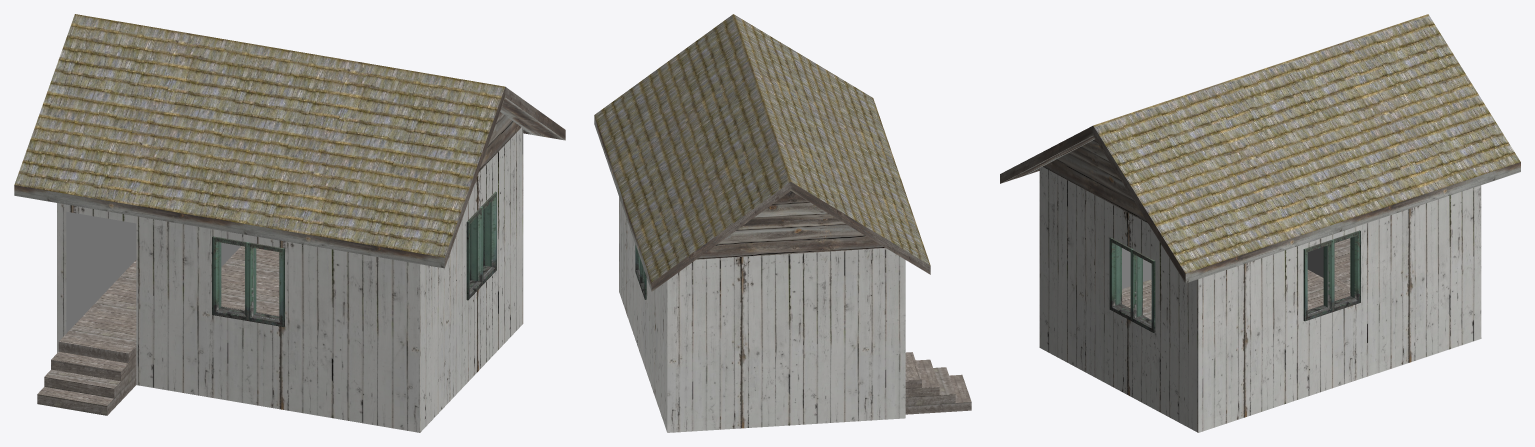
Rendered from cottage2.obj.
The picture shows the model from 3 angles, left to right: view 1: azimuth 30°, elevation 25°; view 2: azimuth 150°, elevation 25°; view 3: azimuth 270°, elevation 25°; orthographic projection. The views are drawn at different scales.
Parts seen in each view (by area): view 1: Cube.007_Roof, Cube.006_Wall_Ouside, Cube.010_Concrete, Cube.009_Wood, Cube.008_Wall_Inside, Cube.004; view 2: Cube.007_Roof, Cube.006_Wall_Ouside, Cube.009_Wood, Cube.010_Concrete; view 3: Cube.006_Wall_Ouside, Cube.007_Roof, Cube.009_Wood, Cube.004, Cube.010_Concrete, Cube.008_Wall_Inside.
Part boxes in pixels (x1,y1,x2,y2): Cube.007_Roof: (14,14,504,257); Cube.006_Wall_Ouside: (57,127,523,432); Cube.010_Concrete: (37,246,279,415); Cube.009_Wood: (14,87,565,268); Cube.008_Wall_Inside: (66,211,240,333); Cube.004: (212,191,496,326); Cube.007_Roof: (594,14,930,282); Cube.006_Wall_Ouside: (619,197,905,432); Cube.009_Wood: (594,116,930,291); Cube.010_Concrete: (905,352,971,414); Cube.006_Wall_Ouside: (1039,167,1481,432); Cube.007_Roof: (1093,14,1520,273); Cube.009_Wood: (1000,126,1520,283); Cube.004: (1109,230,1360,332); Cube.010_Concrete: (1122,238,1350,319); Cube.008_Wall_Inside: (1122,247,1323,288).
Bounding box in the file's own units: 2.76 × 1.63 × 2.81.
